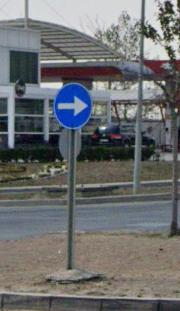turnright: (53, 83, 92, 131)
